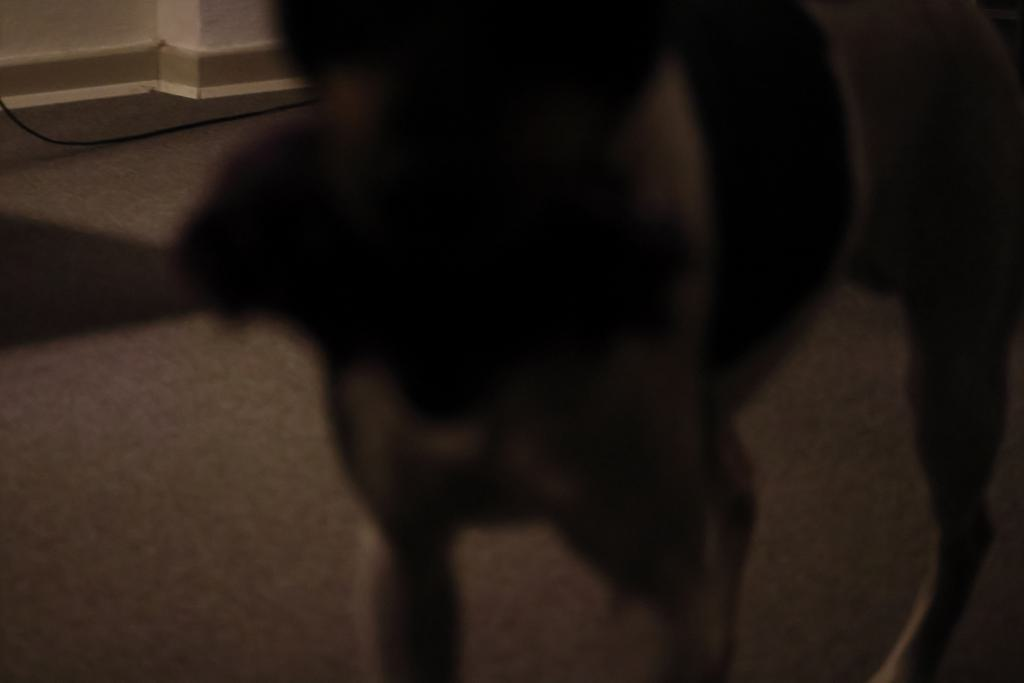Dog: (125, 0, 1024, 683)
